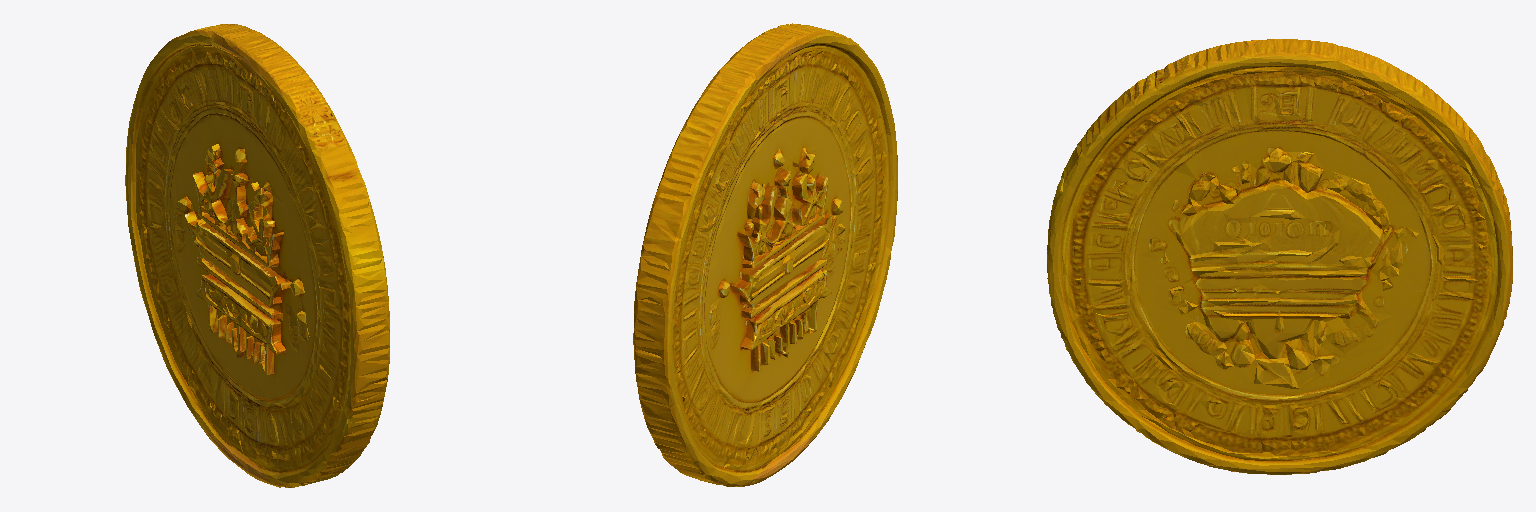
The picture shows the model from 3 angles: view 1: azimuth 30°, elevation 25°; view 2: azimuth 150°, elevation 25°; view 3: azimuth 270°, elevation 25°; orthographic projection.
Visible parts, largest first — view 1: coin; view 2: coin; view 3: coin.
Boxes of the visible parts, x1=… form: coin: x1=125, y1=24, x2=389, y2=487; coin: x1=633, y1=23, x2=897, y2=486; coin: x1=1047, y1=39, x2=1512, y2=474.
Bounding box in the file's own units: 0.2223 × 2 × 2.
Materials: 1 (1 with a texture image).